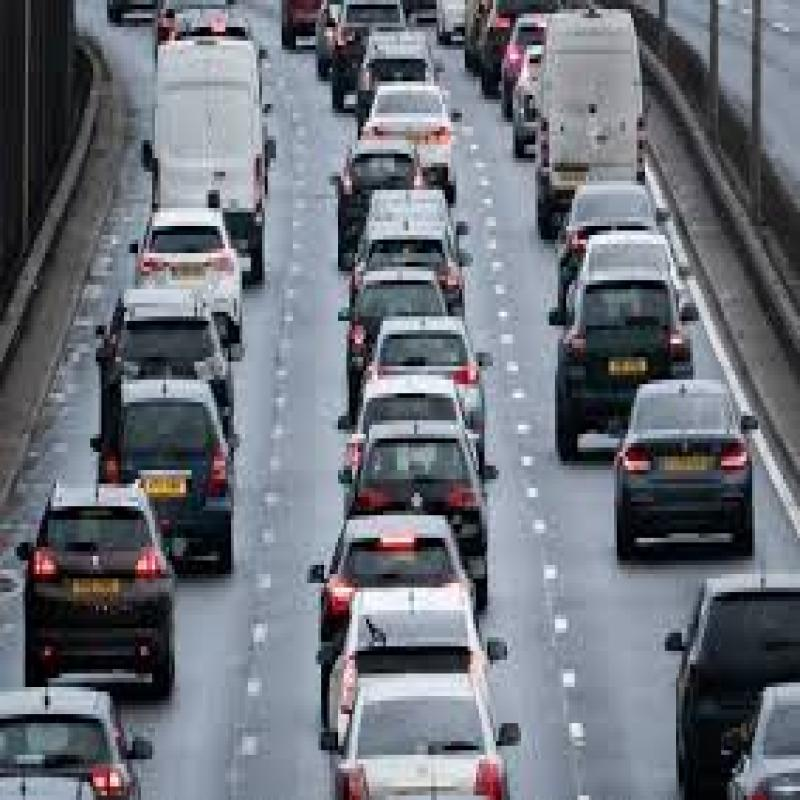car: (313, 508, 496, 724), (16, 445, 154, 705), (542, 270, 692, 463), (670, 567, 800, 786), (614, 373, 758, 563), (78, 372, 222, 560), (138, 192, 276, 374), (364, 400, 484, 586), (0, 660, 158, 800), (335, 666, 474, 800), (358, 313, 481, 456), (337, 200, 465, 336), (114, 296, 224, 434), (557, 164, 654, 278)
